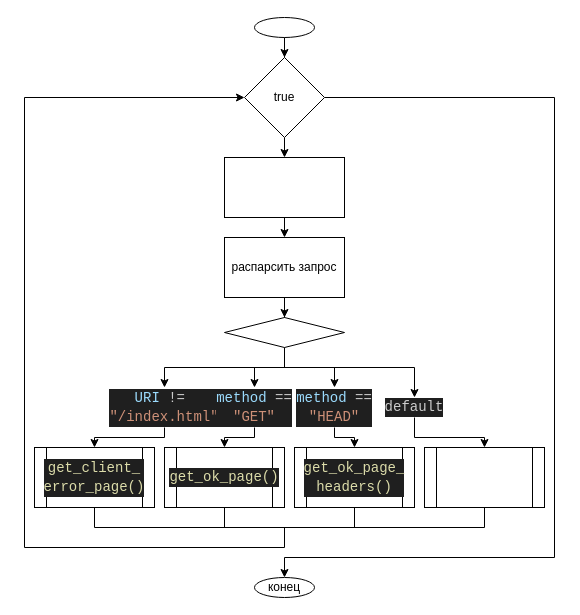
The diagram is 580 pixels wide and 615 high, and some of its shapes have lost their labels. Here are the shapes that lost their labels. From the top down, the box of each, then its label:
(254, 16, 314, 38): начало
(224, 156, 344, 218): получить запрос пользователя
(424, 446, 544, 508): get_server_ error_page ()
